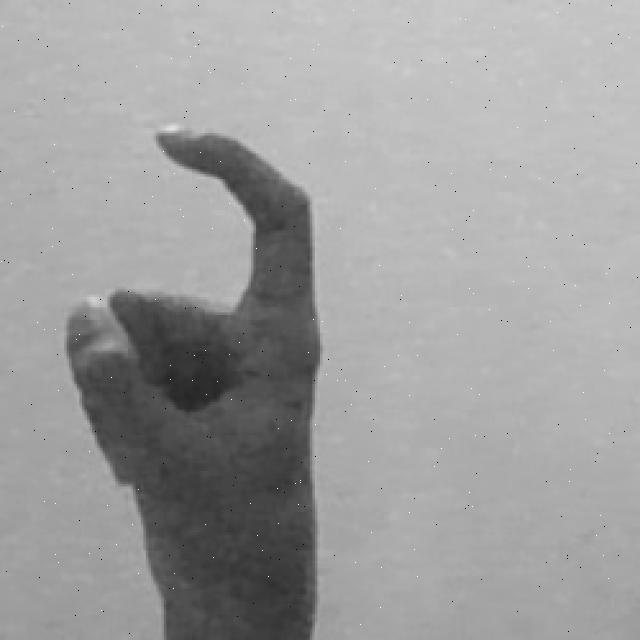X: (66, 112, 331, 640)
